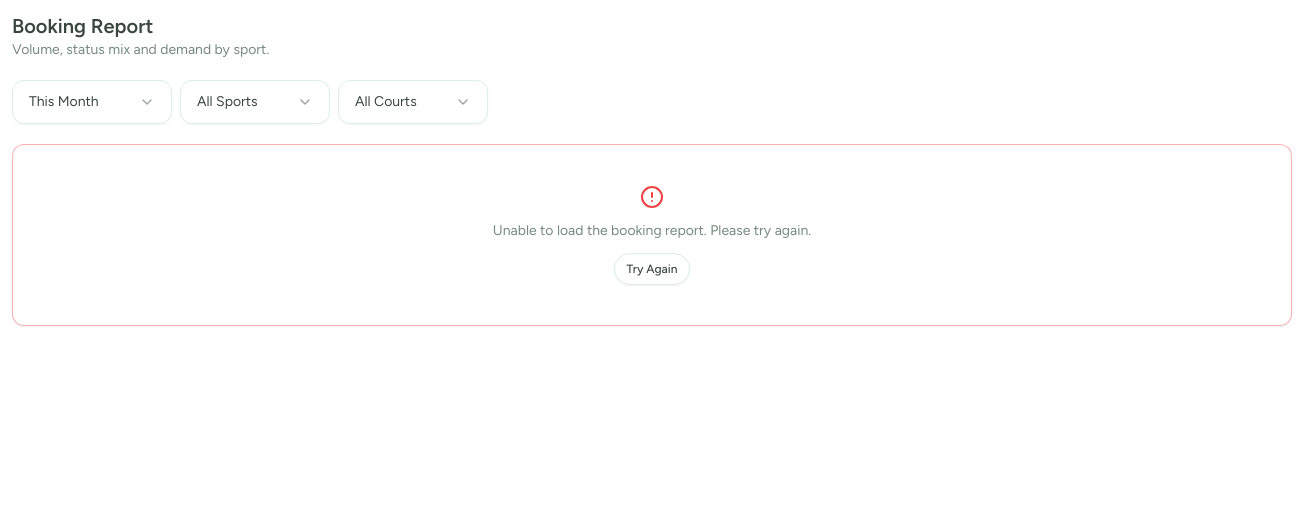
BookingReport › shows an error state with a retry that re-fetches
Expected: the text "Unable to load the booking report. Please try again." is shown, top-left (493, 221), bottom-right (811, 241)
Click the button "Try Again": (652, 269) top-left (614, 253), bottom-right (690, 285)
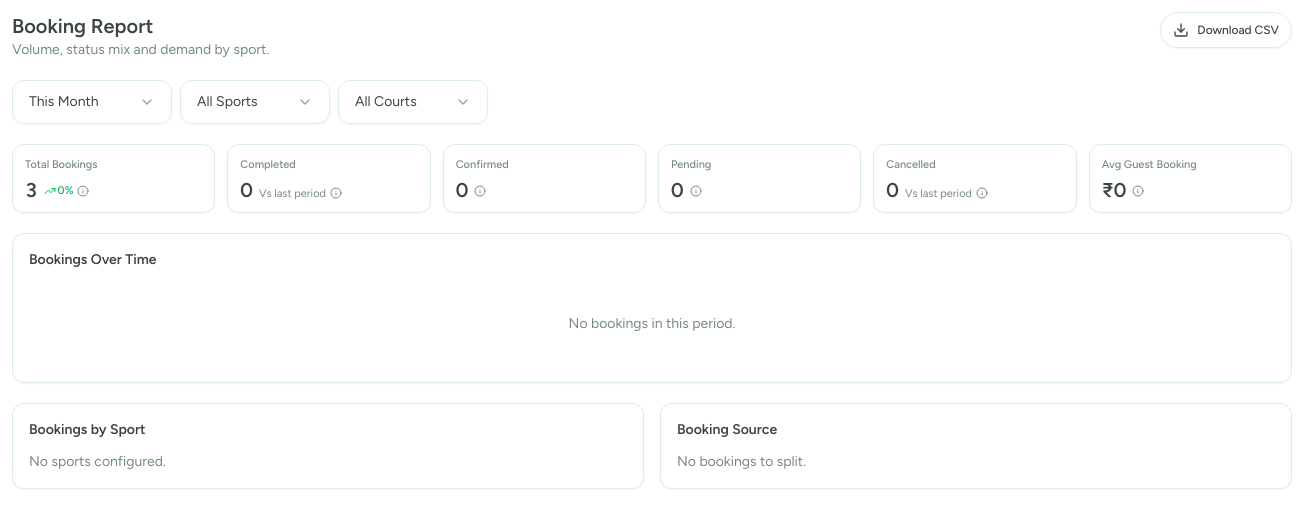
Result: the text "Unable to load" is gone
